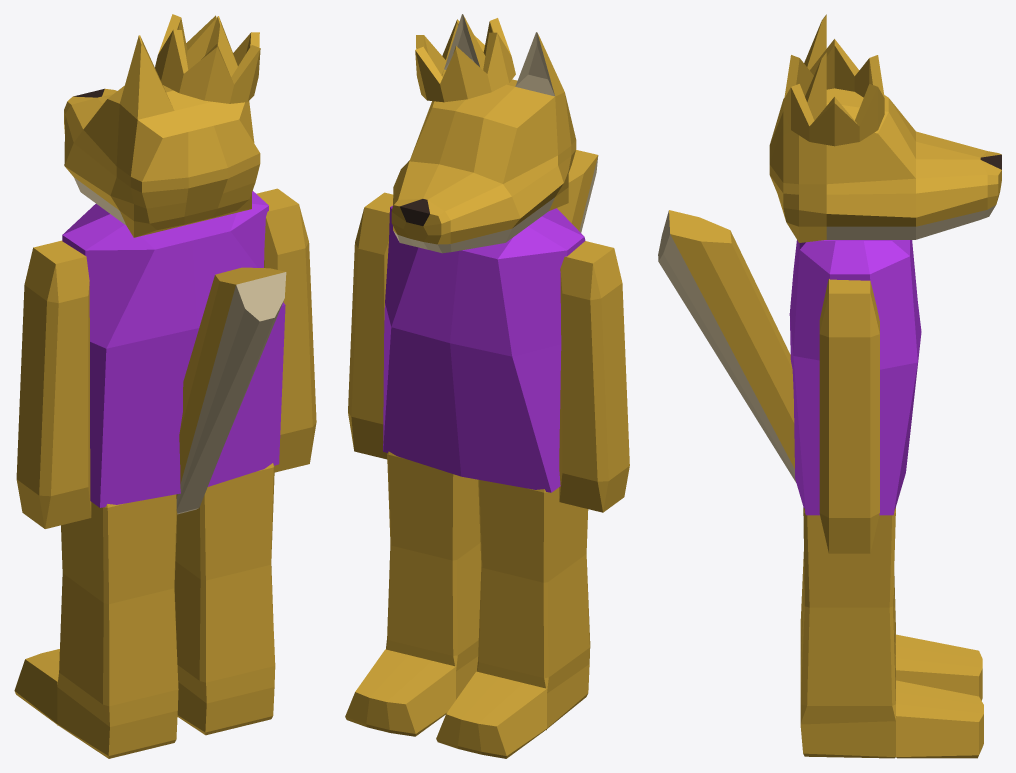
File: Dingo.glb
The picture shows the model from 3 angles, left to right: view 1: azimuth 30°, elevation 25°; view 2: azimuth 150°, elevation 25°; view 3: azimuth 270°, elevation 25°; orthographic projection. The views are drawn at different scales.
Visible parts, largest first — view 1: Cube, Cube.002, Cube.001, Cube.003, Cube.005, Cube.006, Cube.004, Cylinder; view 2: Cube, Cube.002, Cube.001, Cube.003, Cube.005, Cube.004, Cylinder, Cube.006; view 3: Cube.003, Cube.001, Cube, Cube.004, Cube.006, Cylinder, Cube.002.
Boxes of the visible parts, bbox=[...] form: Cube: bbox=[62, 191, 285, 507]; Cube.002: bbox=[14, 494, 178, 758]; Cube.001: bbox=[64, 16, 260, 237]; Cube.003: bbox=[174, 463, 275, 735]; Cube.005: bbox=[16, 240, 91, 528]; Cube.006: bbox=[176, 267, 286, 514]; Cube.004: bbox=[256, 188, 316, 472]; Cylinder: bbox=[155, 14, 260, 103]; Cube: bbox=[383, 205, 585, 492]; Cube.002: bbox=[436, 479, 590, 758]; Cube.001: bbox=[391, 14, 576, 253]; Cube.003: bbox=[345, 451, 481, 736]; Cube.005: bbox=[559, 241, 629, 512]; Cube.004: bbox=[348, 192, 393, 459]; Cylinder: bbox=[415, 18, 515, 102]; Cube.006: bbox=[557, 150, 598, 232]; Cube.003: bbox=[800, 507, 983, 758]; Cube.001: bbox=[769, 14, 1001, 242]; Cube: bbox=[789, 240, 921, 515]; Cube.004: bbox=[819, 279, 879, 553]; Cube.006: bbox=[658, 210, 796, 482]; Cylinder: bbox=[784, 39, 884, 146]; Cube.002: bbox=[800, 552, 982, 700].
Size of the model in its own units: 0.7758 by 1.88 by 0.855.
